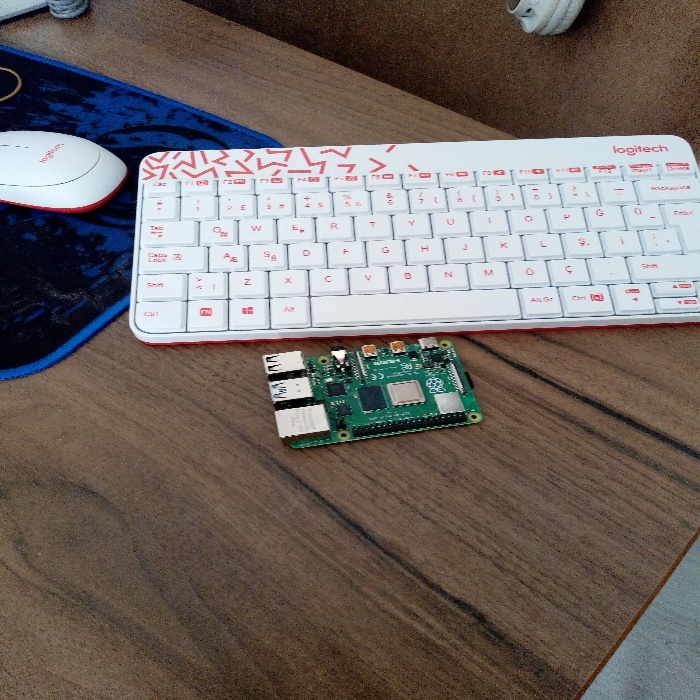raspberry: (233, 313, 504, 456)
